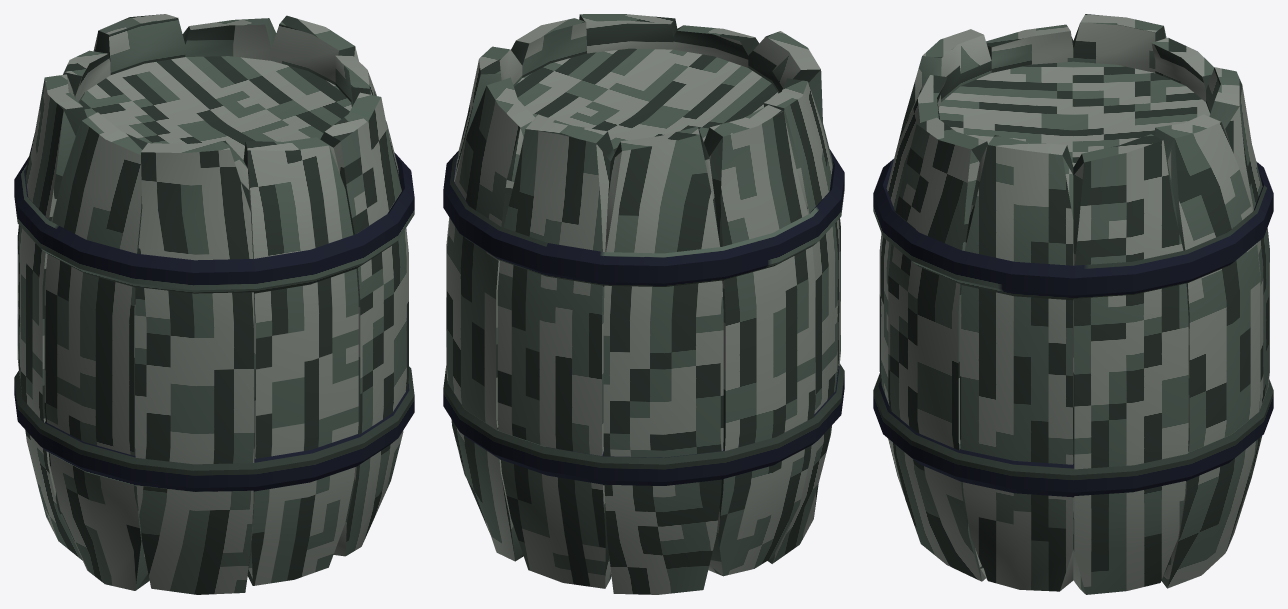
The model's file is SM_Barrel.fbx.
3 renders of one model, left to right at view 1: azimuth 30°, elevation 25°; view 2: azimuth 150°, elevation 25°; view 3: azimuth 270°, elevation 25°, orthographic.
Parts seen in each view (by area): view 1: SM_Barrel; view 2: SM_Barrel; view 3: SM_Barrel.
Boxes of the visible parts, bbox=[...] form: SM_Barrel: bbox=[14, 14, 414, 594]; SM_Barrel: bbox=[443, 14, 844, 594]; SM_Barrel: bbox=[873, 14, 1273, 594].
Bounding box in the file's own units: 105 × 133 × 105.
